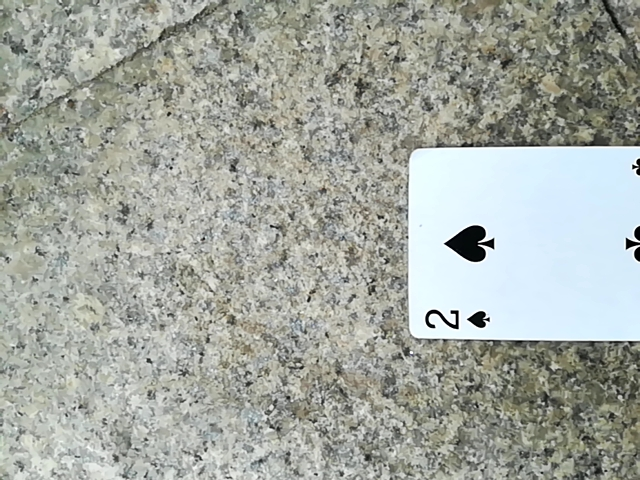ht 2: (400, 149, 640, 355)
